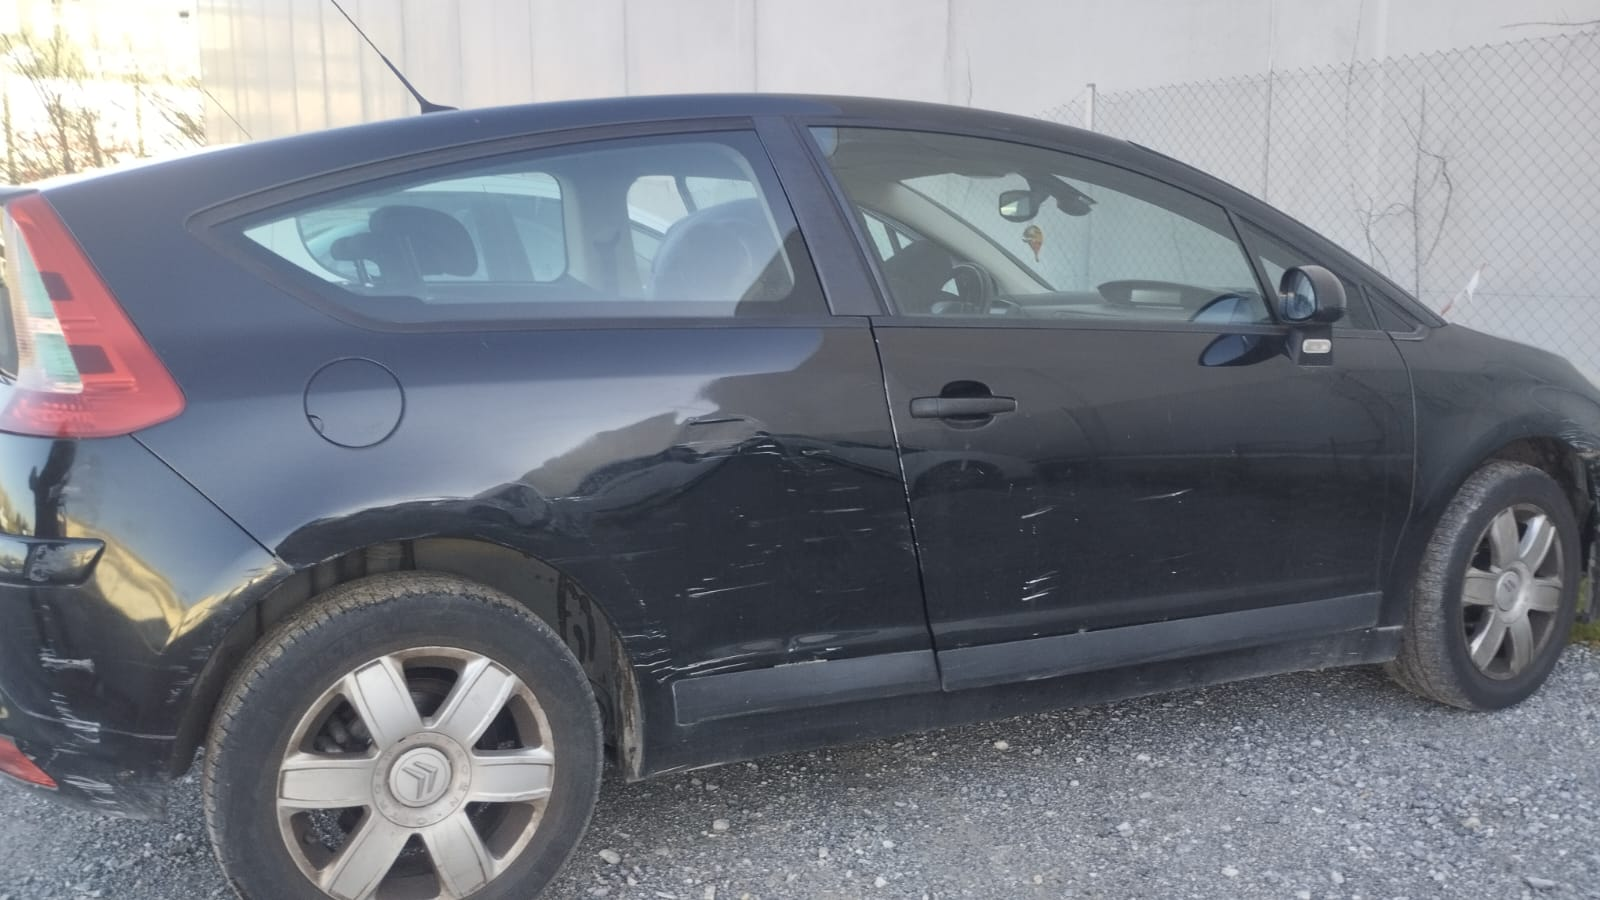car: (1, 65, 1599, 896)
